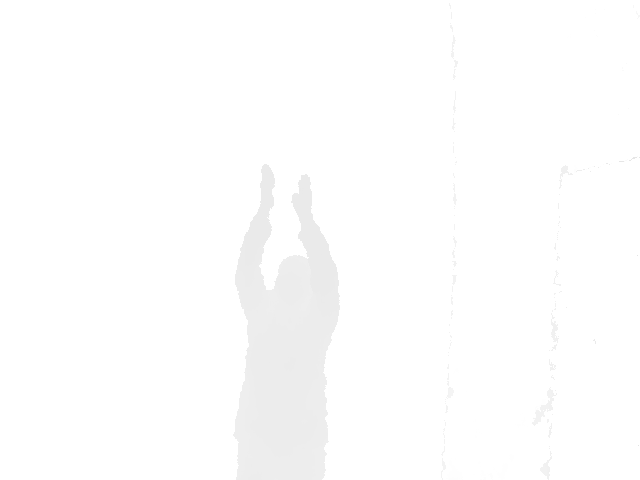hand: (290, 173, 314, 213), (258, 163, 276, 212)
head: (273, 255, 313, 300)
person: (232, 163, 341, 480)
